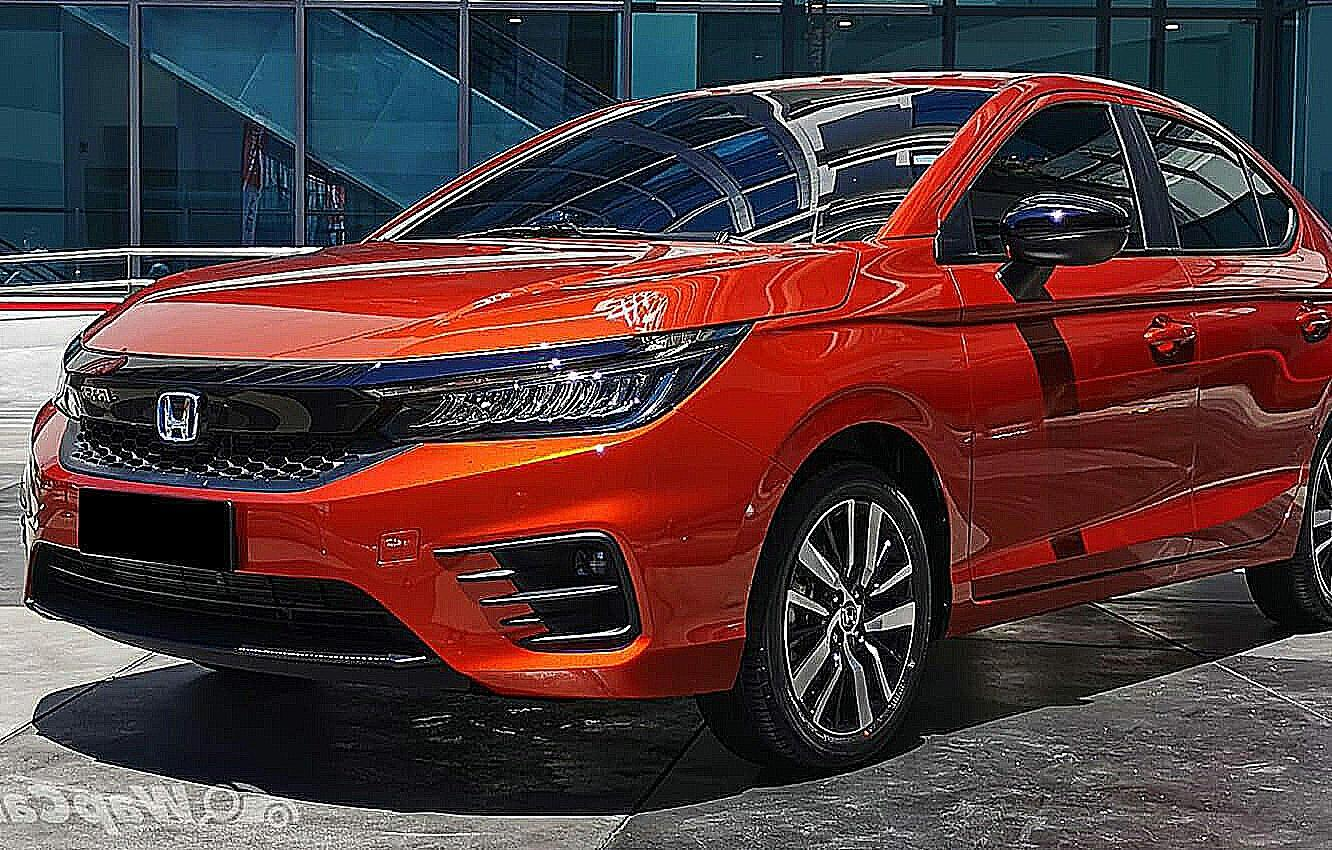Car hood: (74, 226, 862, 366)
Fender - -F-L-: (680, 228, 974, 644)
Front bumper: (12, 426, 789, 719)
Headlight - -L-: (366, 310, 765, 453)
Headlight - -R-: (34, 356, 100, 432)
Passenger-s door - -F-L-: (974, 74, 1202, 601)
Passenger-s door - -R-L-: (1165, 80, 1332, 566)
Side bumper - -L-: (928, 518, 1313, 650)
Side mirror - -L-: (992, 182, 1142, 314)
